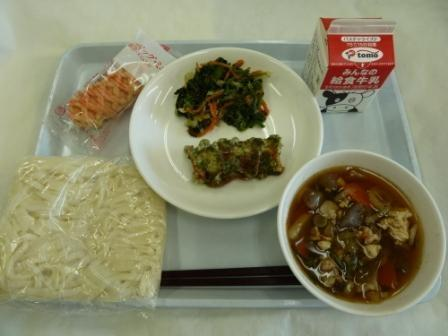Milk: (298, 10, 411, 123)
Soups: (275, 150, 442, 313)
Udon: (2, 149, 170, 315)
pastry: (52, 48, 166, 142)
salad with sauce: (163, 55, 275, 135)
snacks: (166, 125, 303, 194)
